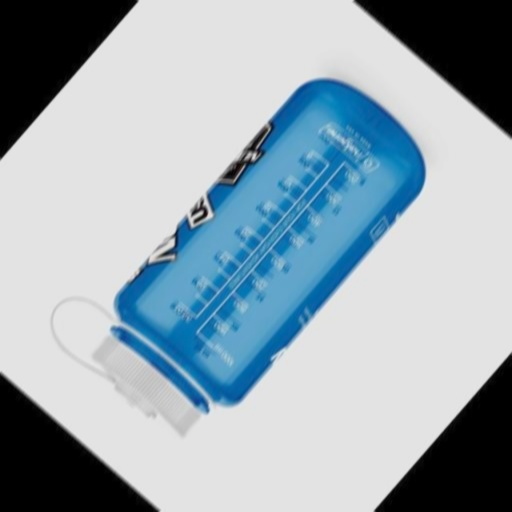bottle: (32, 30, 450, 464)
